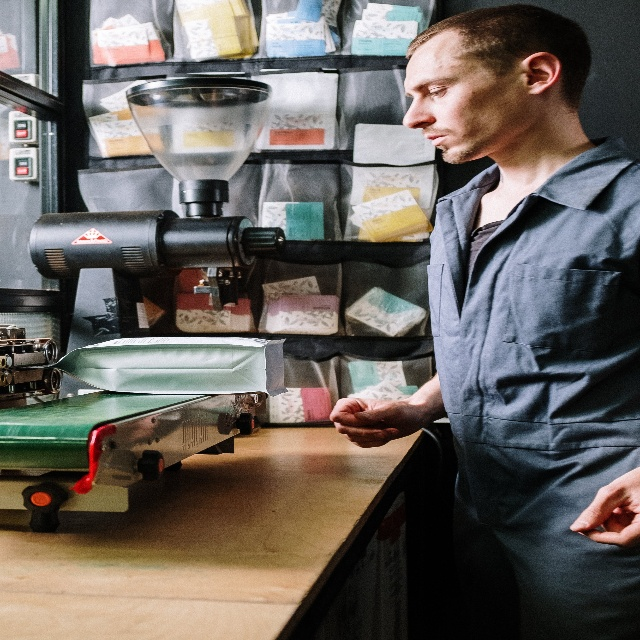Sin_guantes: (566, 465, 640, 550), (327, 393, 421, 446)
